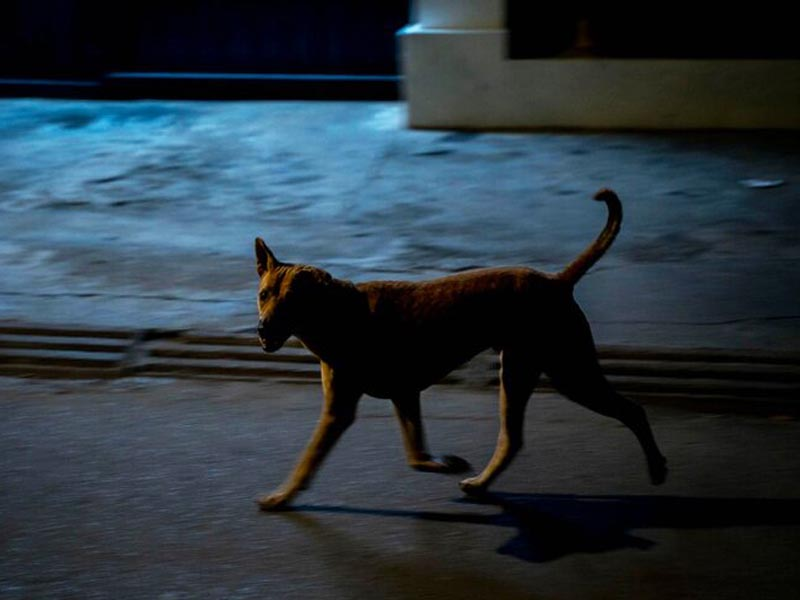Dog: (177, 176, 710, 543)
